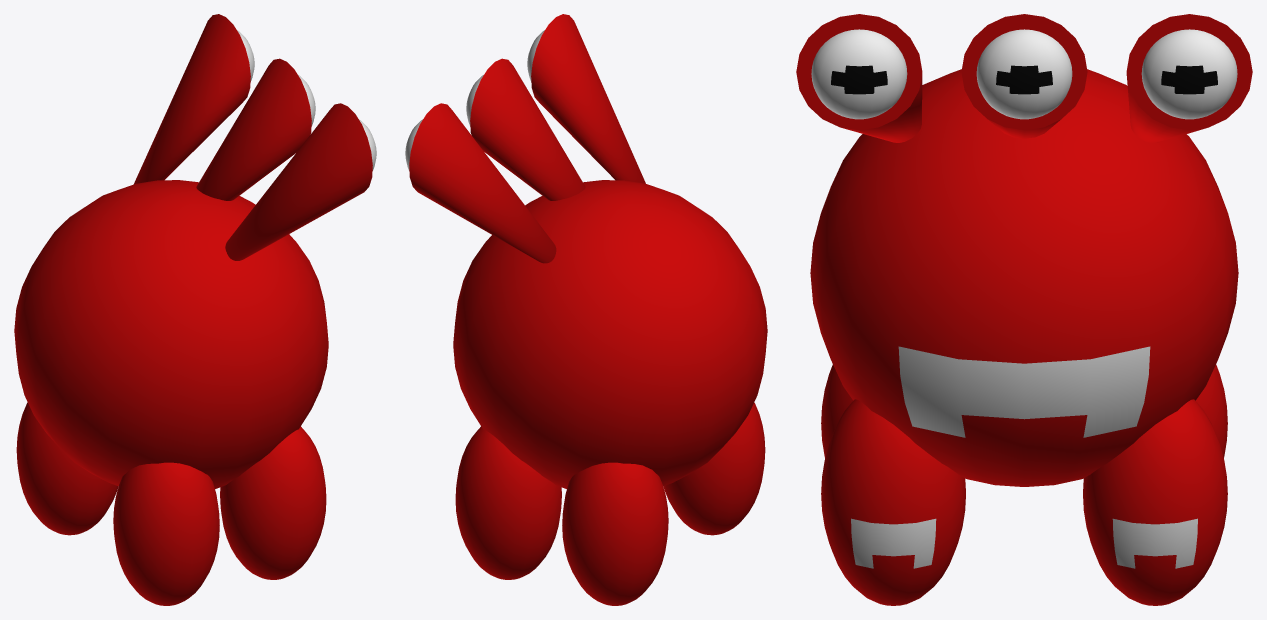
The model's file is threeEyed.fbx.
The picture shows the model from 3 angles, left to right: view 1: azimuth 30°, elevation 25°; view 2: azimuth 150°, elevation 25°; view 3: azimuth 270°, elevation 25°; orthographic projection. The views are drawn at different scales.
Parts seen in each view (by area): view 1: pSphere9; view 2: pSphere9; view 3: pSphere9.
Boxes of the visible parts, <box> form: pSphere9: <box>14,14,376,605</box>; pSphere9: <box>405,14,767,605</box>; pSphere9: <box>796,14,1252,605</box>.
Size of the model in its own units: 5.3 by 8.56 by 5.63.
